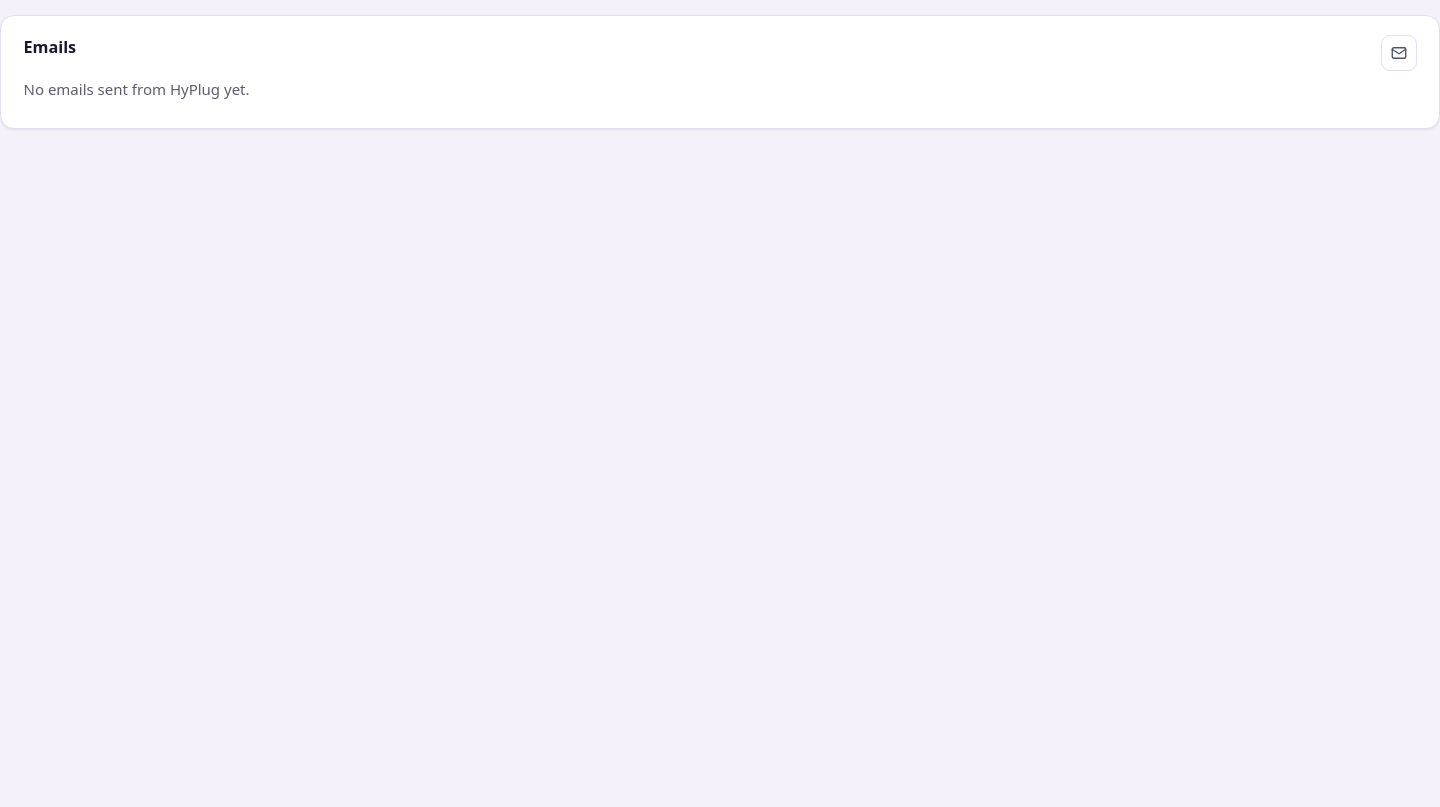
emailing a client's contact › writes to them from their page, fields filled from the contact, and lists what was sent
Later steps or results of the test are not shown.
Expected: the text "No emails sent from HyPlug yet." is shown, [24, 79, 250, 99]
Step 1. Click the button named "Write email" → (1398, 53), box [1380, 35, 1416, 71]
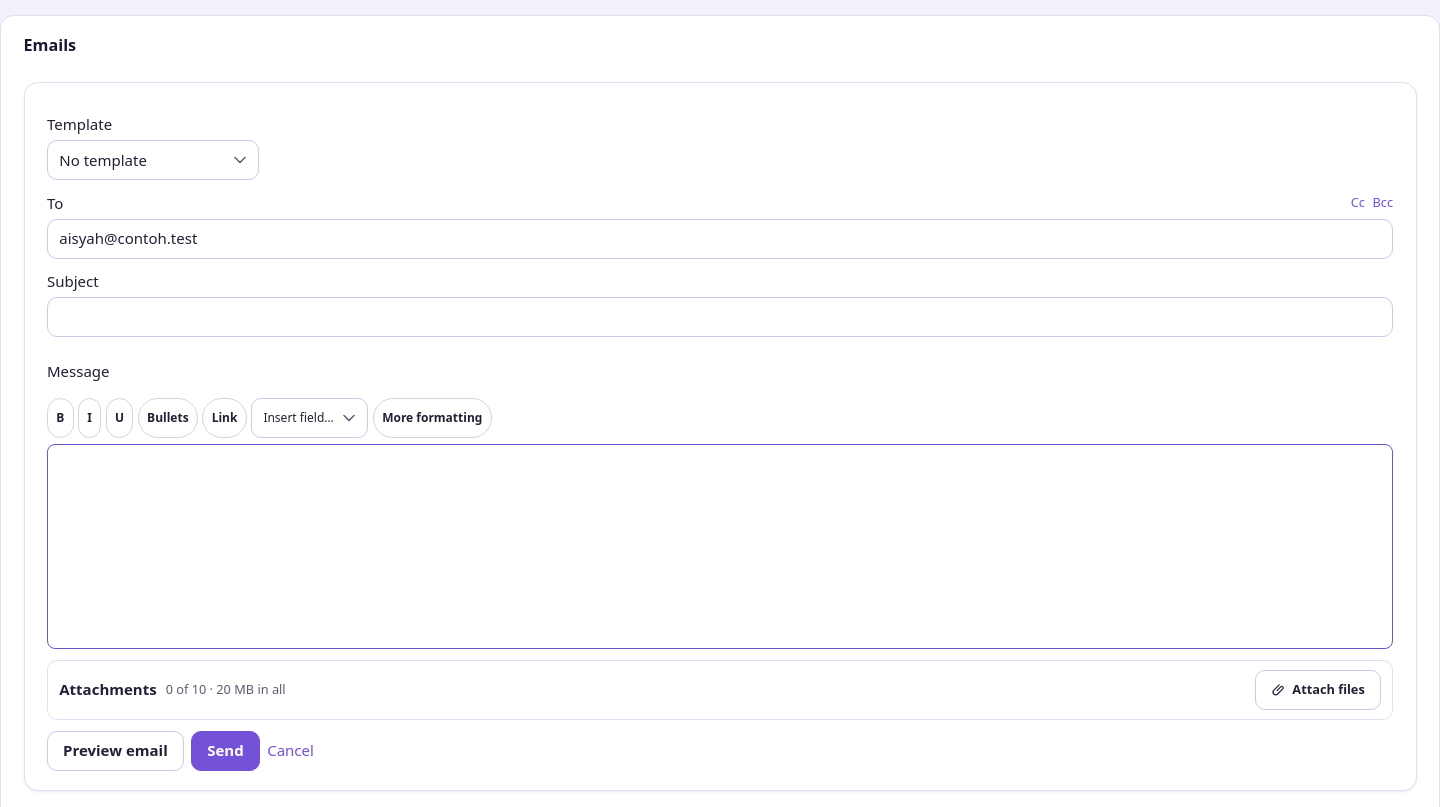
Result: the field labelled "To" holds "aisyah@contoh.test" at [47, 219, 1393, 259]
Step 2. Type "[Client company]: catching up" into the field labelled "Subject" → (720, 317), box [47, 297, 1393, 337]
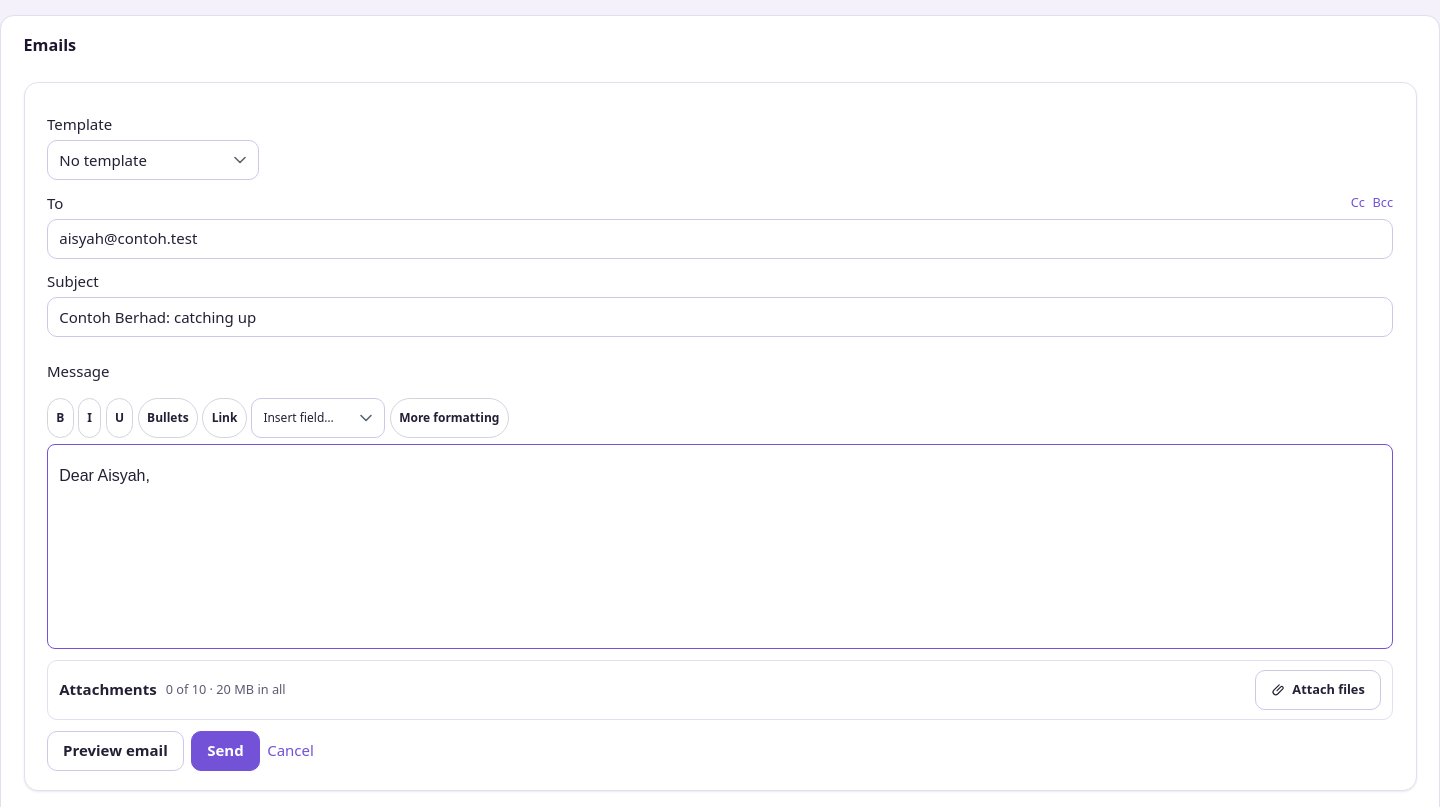
Result: the field labelled "Subject" holds "Contoh Berhad: catching up" at [47, 297, 1393, 337]
